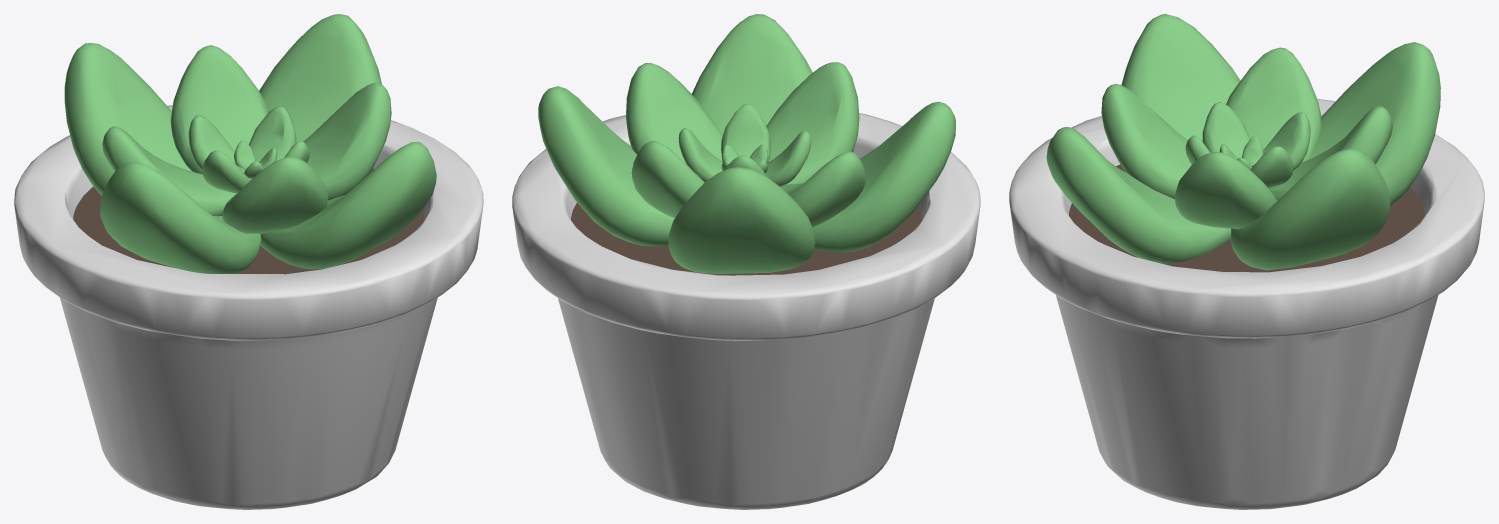
The model's file is Planta.fbx.
3 renders of one model, left to right at view 1: azimuth 30°, elevation 25°; view 2: azimuth 150°, elevation 25°; view 3: azimuth 270°, elevation 25°, orthographic.
Parts seen in each view (by area): view 1: Maceta; view 2: Maceta; view 3: Maceta.
Part boxes in pixels (x1=…): Maceta: x1=14, y1=14, x2=483, y2=509; Maceta: x1=512, y1=14, x2=980, y2=509; Maceta: x1=1009, y1=14, x2=1484, y2=509.
Size of the model in its own units: 2.32 by 2 by 2.32.
